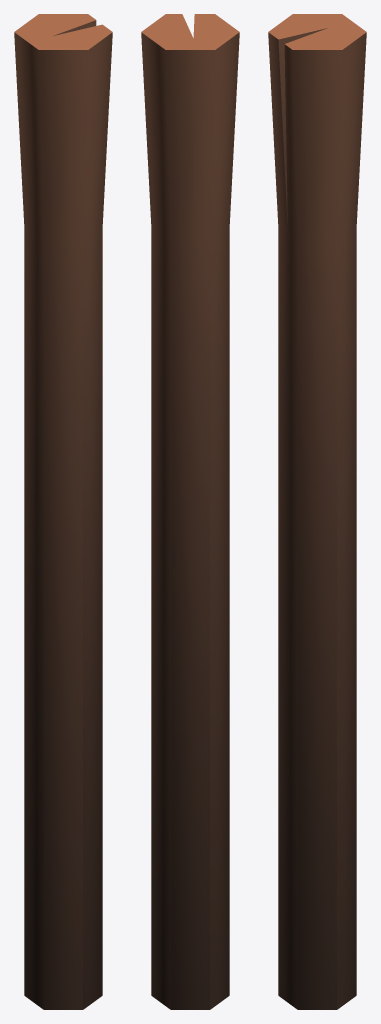
Rendered from Wooden_Pole_1A.fbx.
The picture shows the model from 3 angles, left to right: view 1: azimuth 90°, elevation 25°; view 2: azimuth 150°, elevation 25°; view 3: azimuth 270°, elevation 25°; orthographic projection.
Visible parts, largest first — view 1: Wooden_Pole_1A; view 2: Wooden_Pole_1A; view 3: Wooden_Pole_1A.
Part boxes in pixels (x1,y1,x2,y2): Wooden_Pole_1A: [14, 14, 112, 1009]; Wooden_Pole_1A: [141, 14, 239, 1009]; Wooden_Pole_1A: [268, 14, 366, 1009].
Size of the model in its own units: 0.2009 by 2.5 by 0.232.
